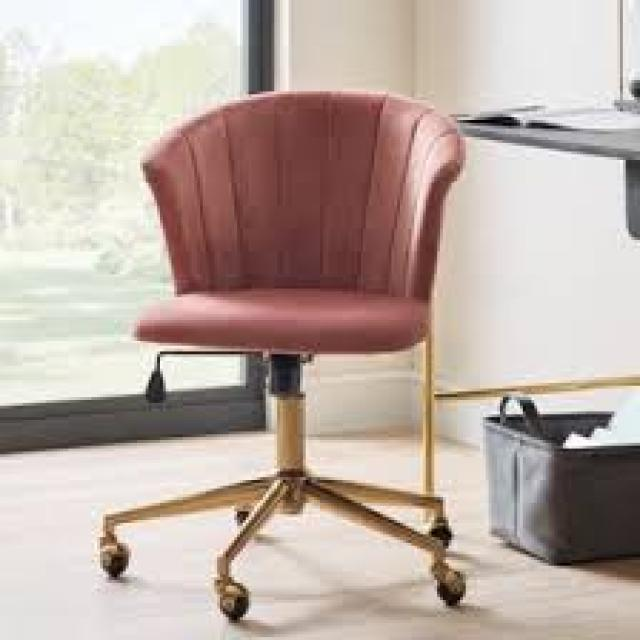chair: (58, 78, 528, 640)
